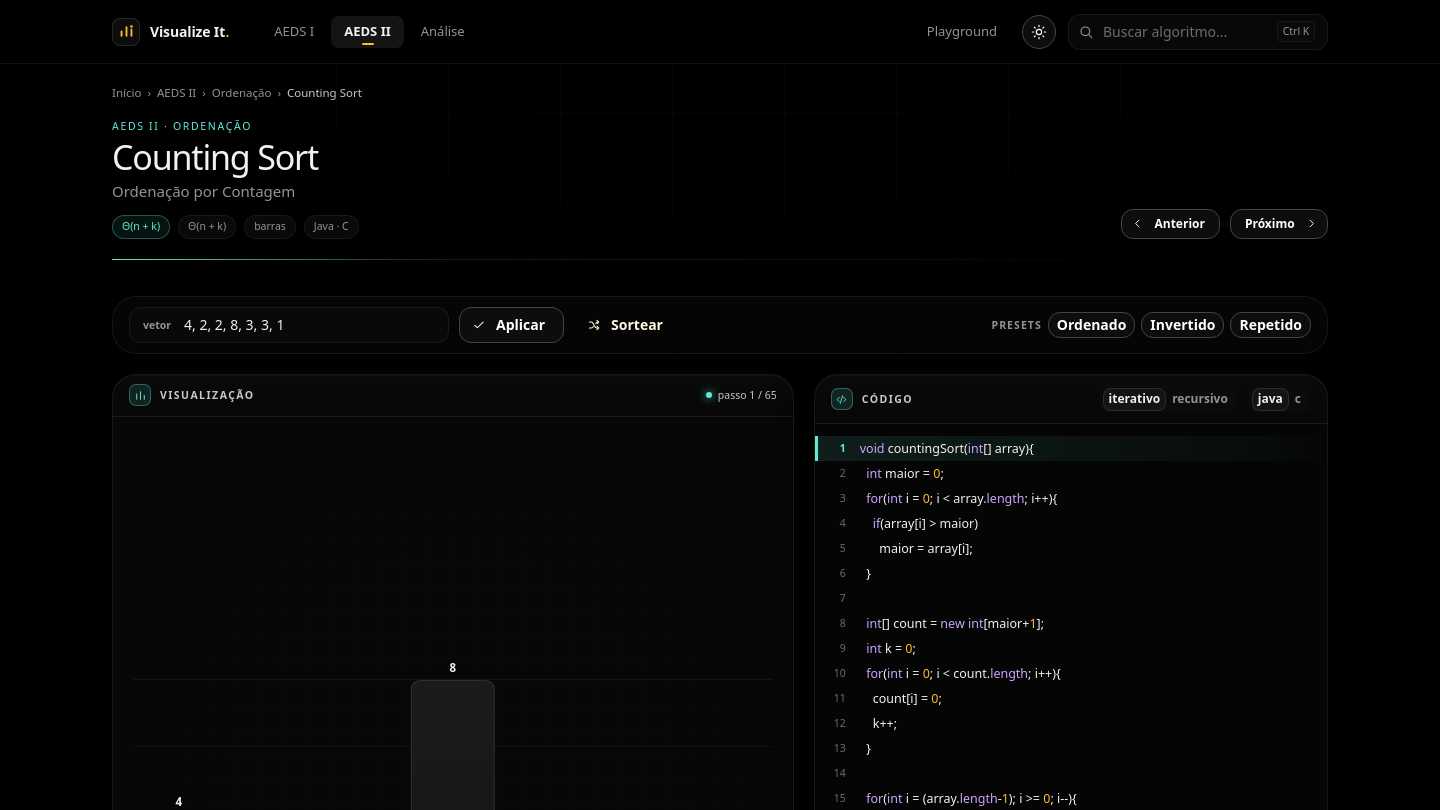
Test case: App › switches counting between iterative and recursive listings
This screenshot has width=1440, height=810.
Click the text "recursivo" at (1200, 398), box [1172,390,1228,407]
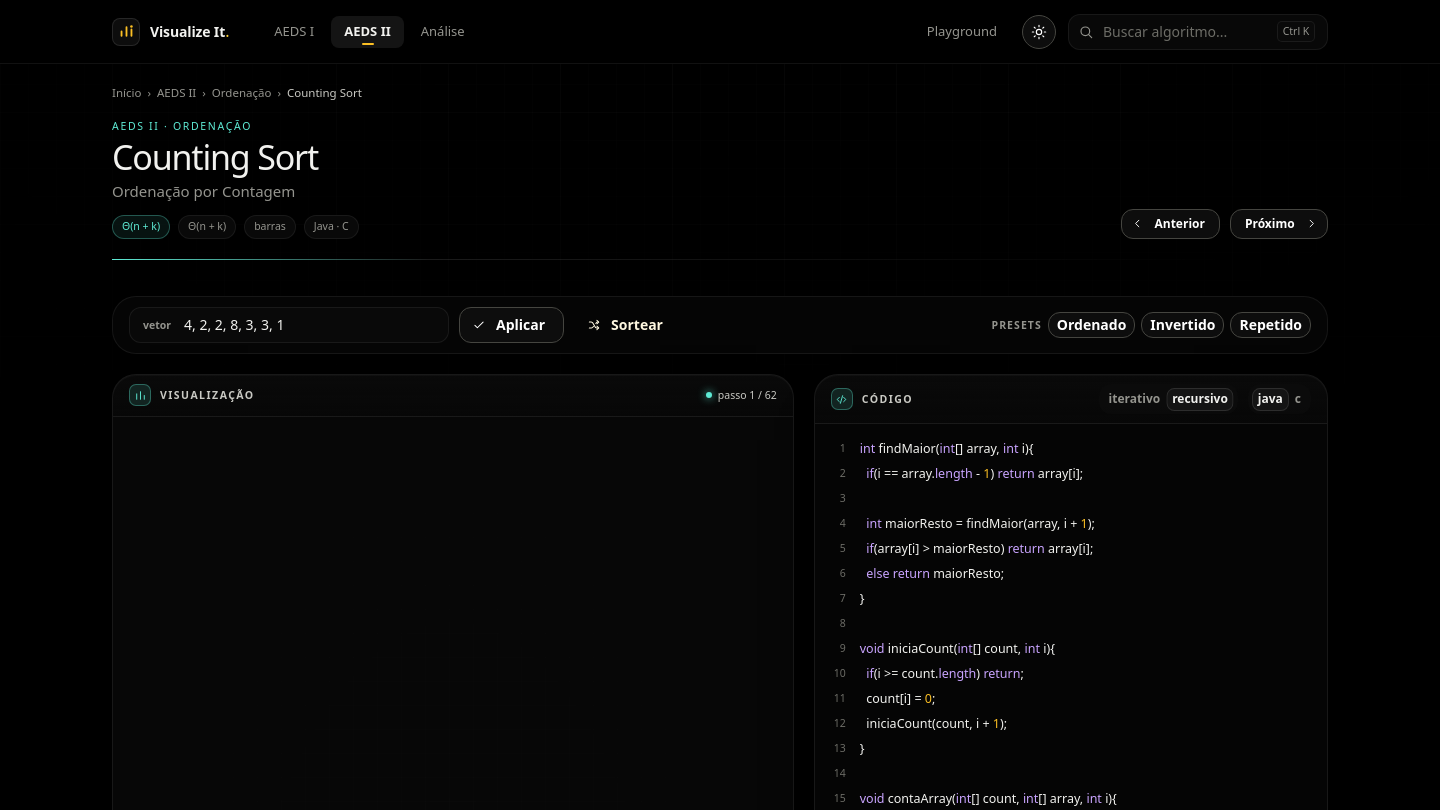
Click the text "c" at (1298, 398), box [1295,390,1301,407]
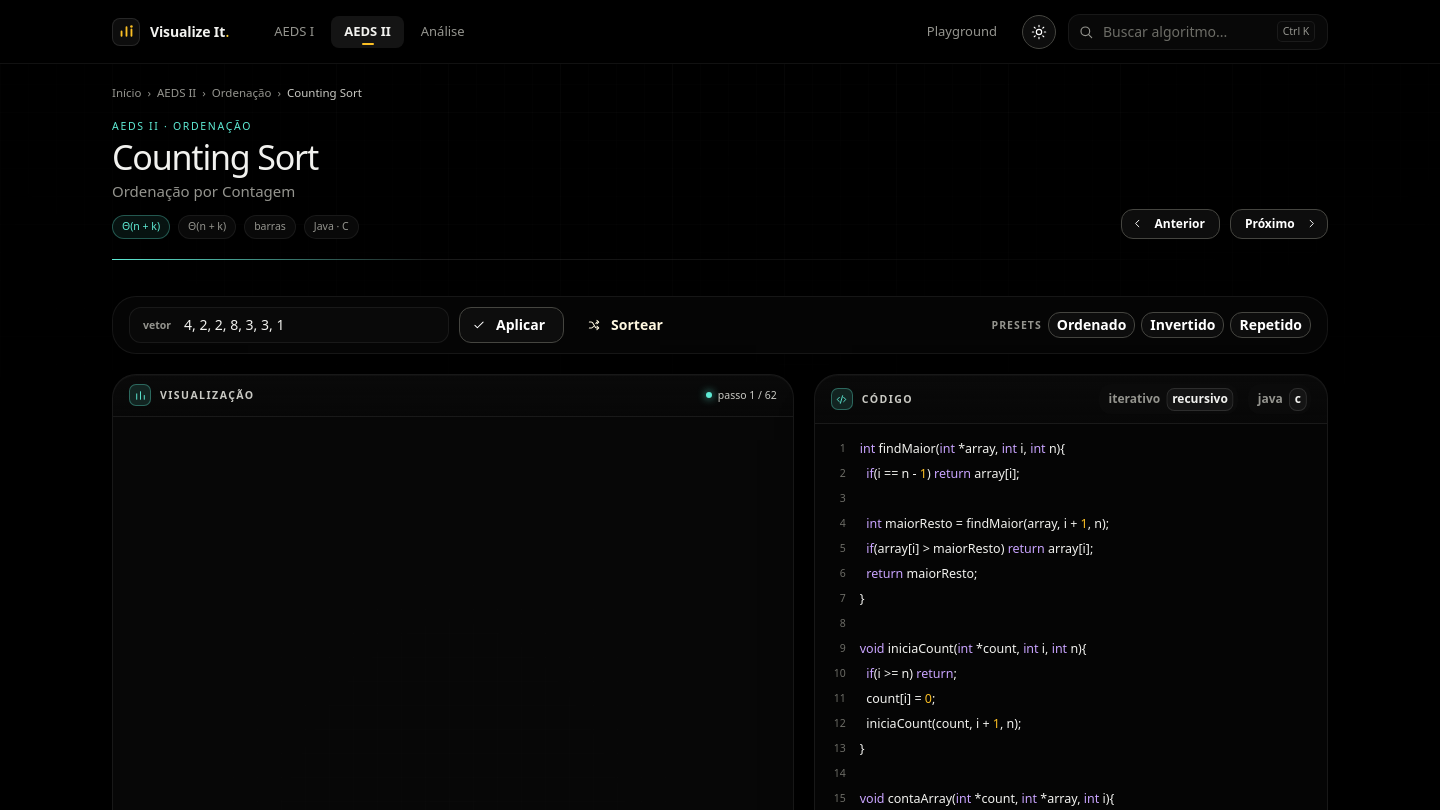
Expected: the text "int findMaior(int *array, int i, int n)" is shown, [860,436,1065,462]
